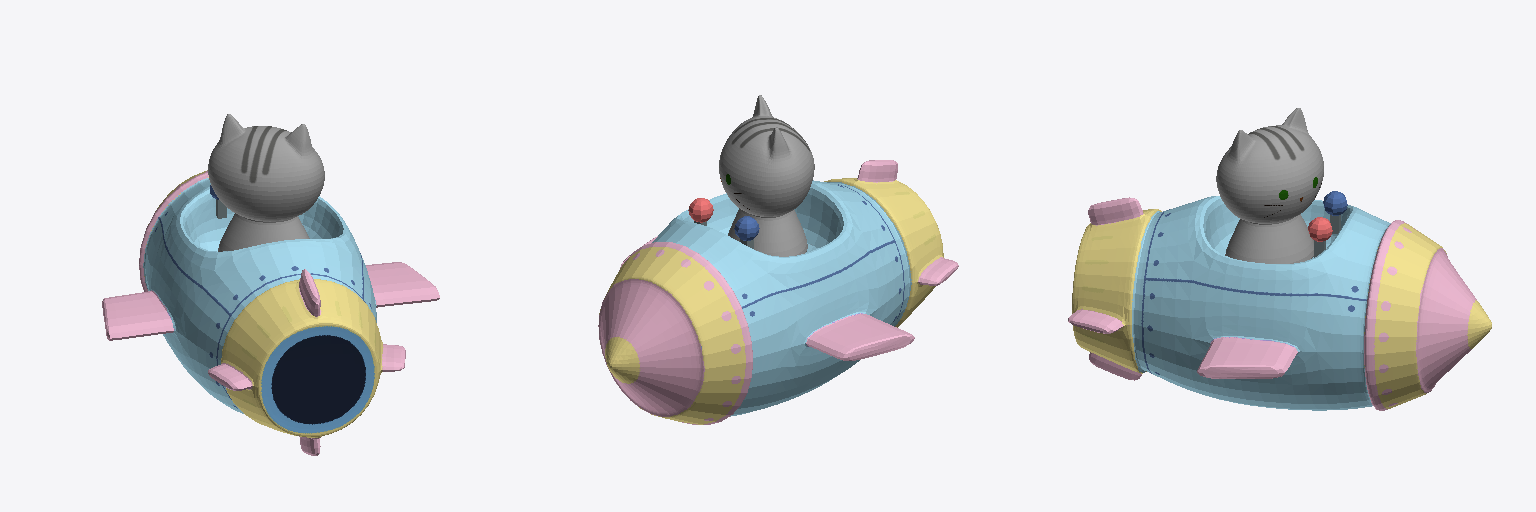
3 views of the same model, side by side, from view 1: azimuth 30°, elevation 25°; view 2: azimuth 150°, elevation 25°; view 3: azimuth 270°, elevation 25° (orthographic).
Visible parts, largest first — view 1: mochi; view 2: mochi; view 3: mochi.
Boxes of the visible parts, x1,y1,x2,y2 form: mochi: [102, 114, 439, 455]; mochi: [598, 95, 958, 424]; mochi: [1068, 108, 1491, 410].
Size of the model in its own units: 0.9507 by 0.864 by 1.19.
Materials: 2 (2 with a texture image).